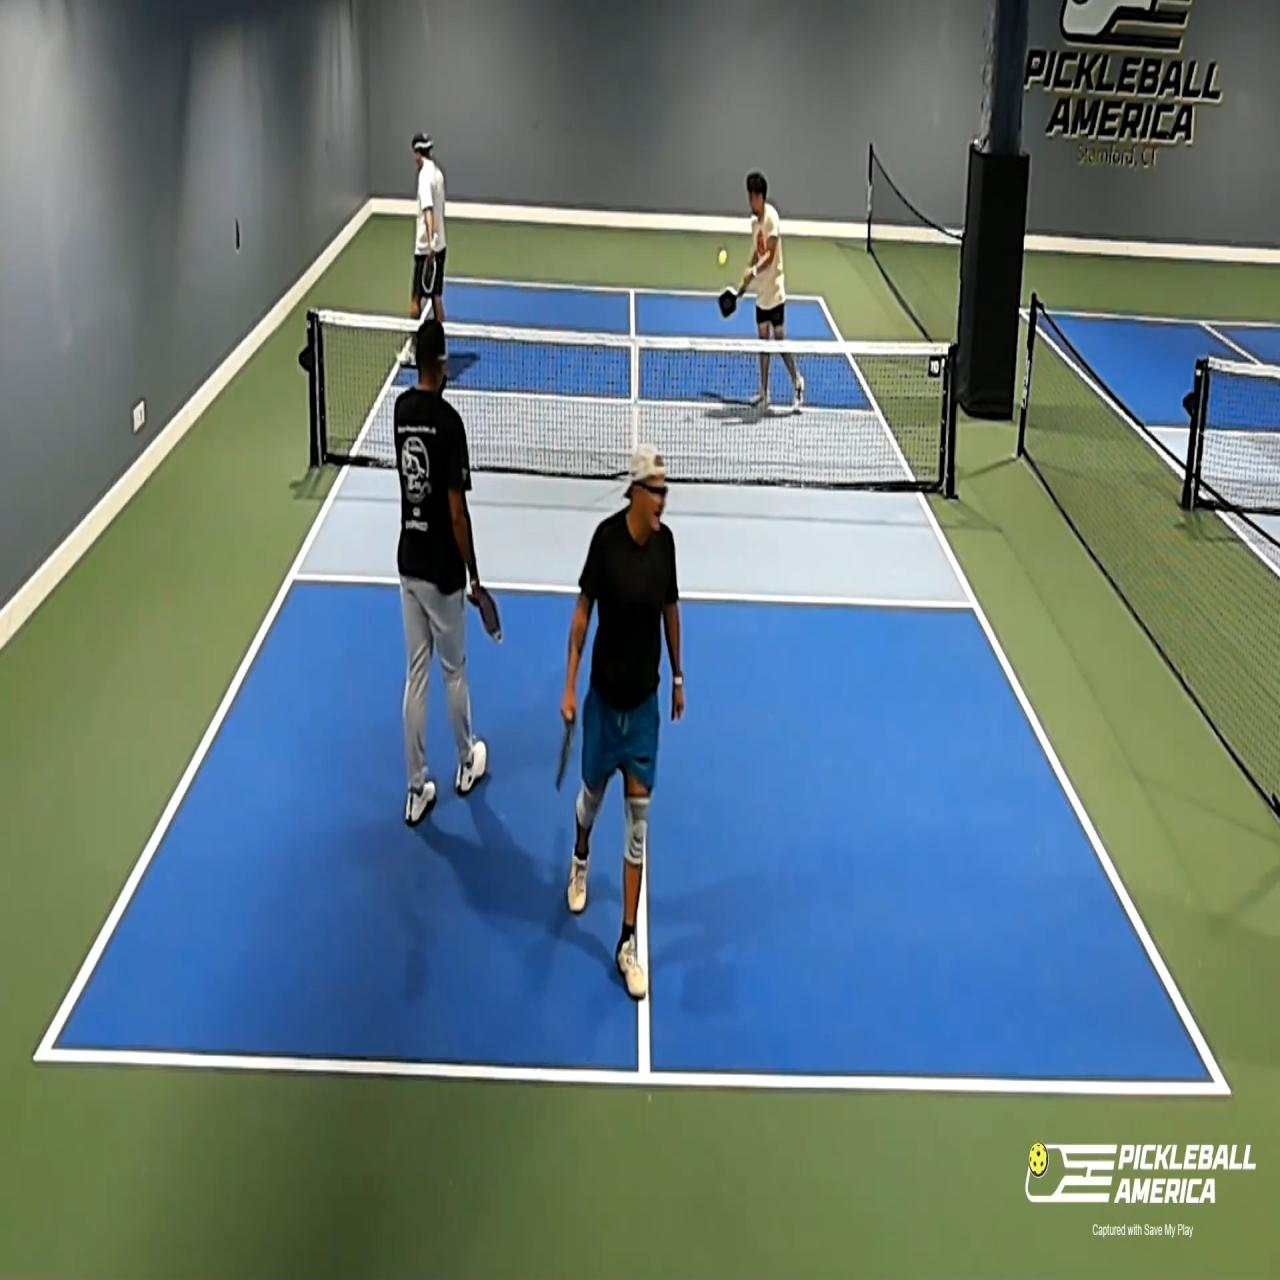Pickleball: (715, 244, 729, 270)
